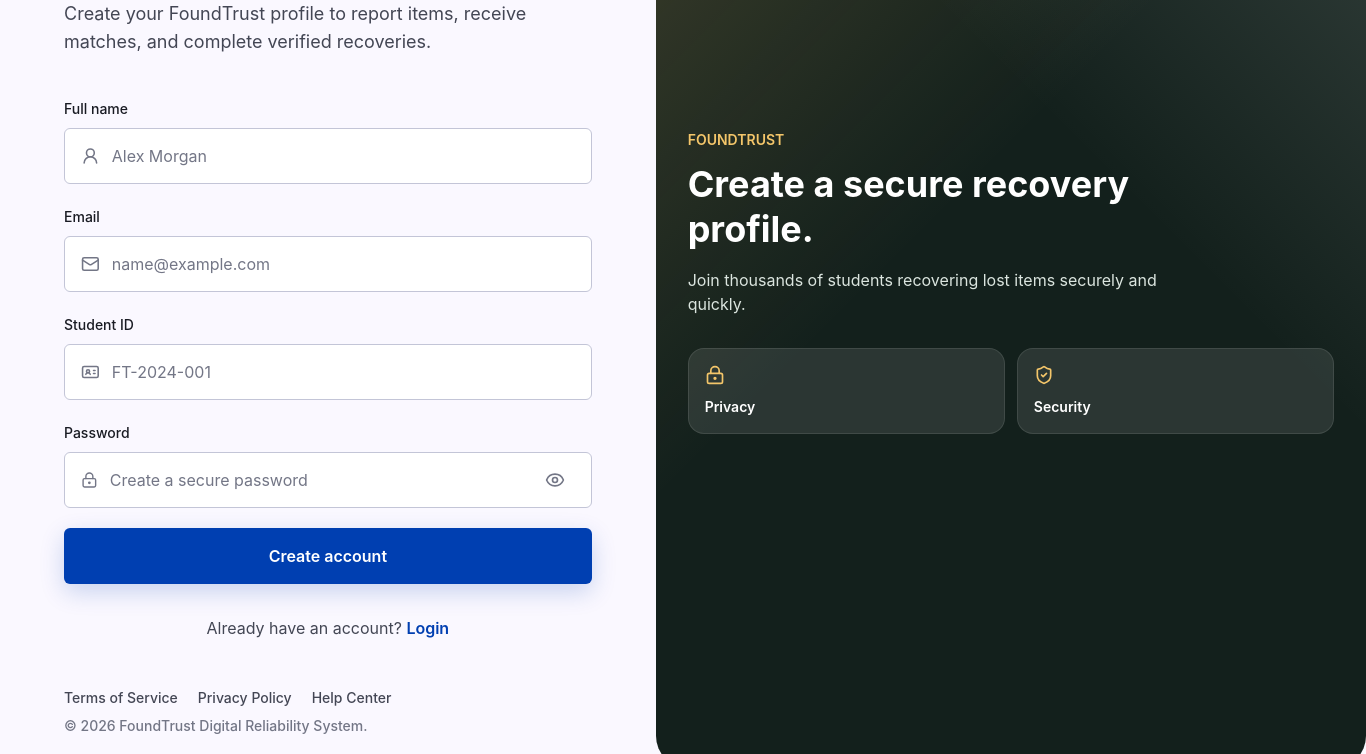
RegisterPage validates required fields
(page scrolled)
Click the button "Create account": point(328, 556) [64,528,592,584]
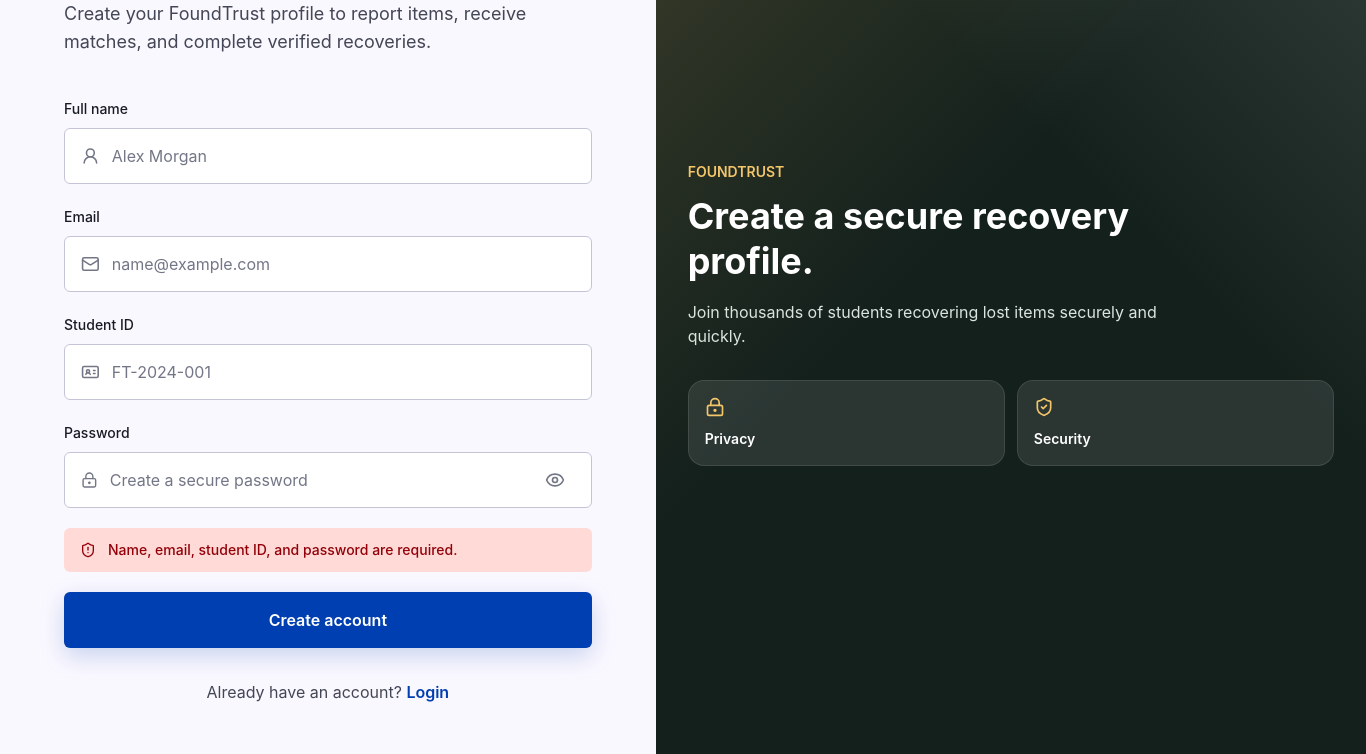
expect the text "Name, email, student ID, and password are required." is shown: met, box [64,528,592,572]
